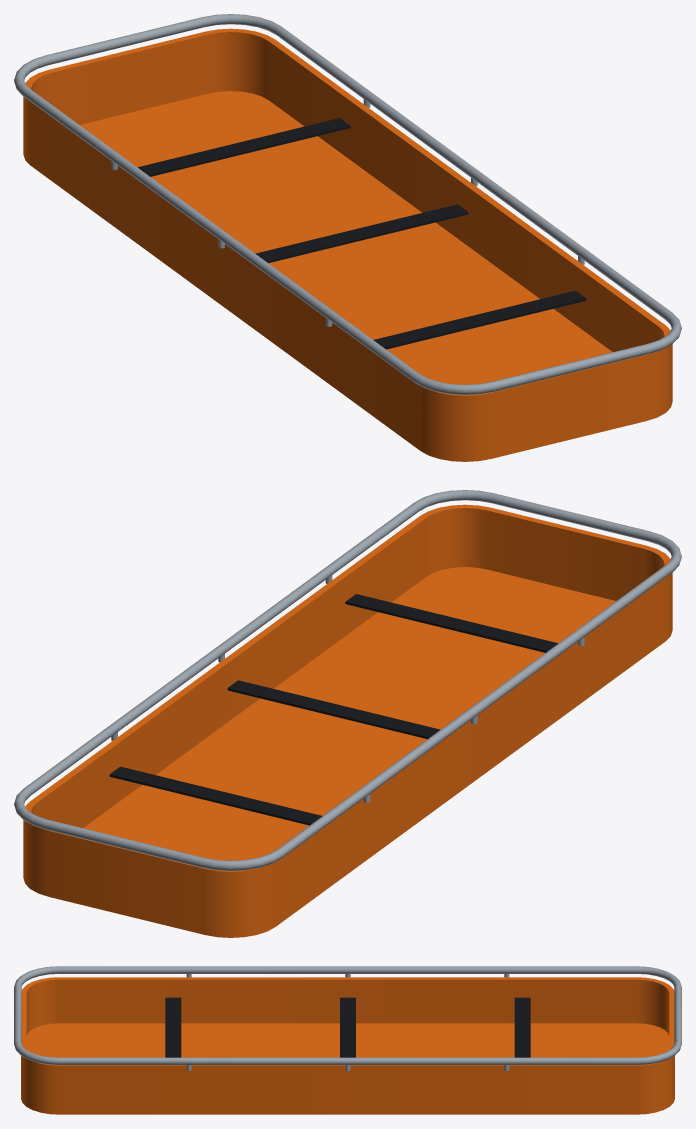
File: basket.glb
3 views of the same model, one above another, from view 1: azimuth 30°, elevation 25°; view 2: azimuth 150°, elevation 25°; view 3: azimuth 270°, elevation 25° (orthographic). The views are drawn at different scales.
Parts seen in each view (by area): view 1: basket; view 2: basket; view 3: basket.
Part boxes in pixels (x1,y1,x2,y2): basket: (14, 14, 681, 461); basket: (14, 490, 681, 937); basket: (14, 966, 681, 1114).
Bounding box in the file's own units: 0.7039 × 0.202 × 2.1.
